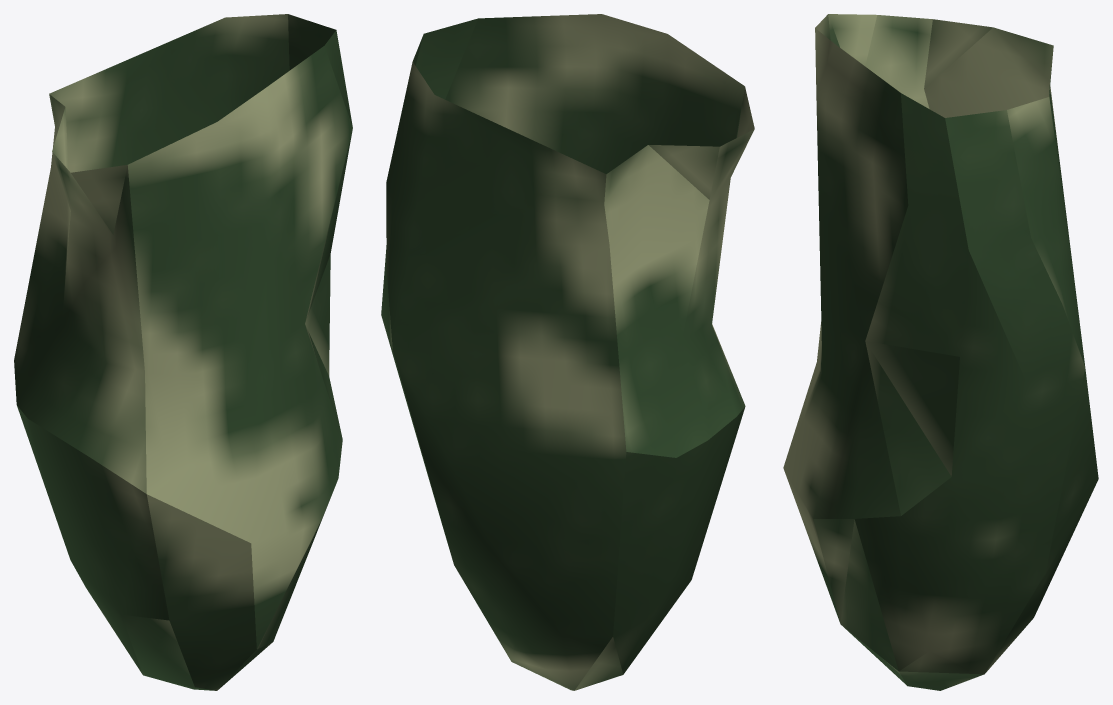
The model's file is link_leg_0_R_1_composite.obj.
The picture shows the model from 3 angles, left to right: view 1: azimuth 30°, elevation 25°; view 2: azimuth 150°, elevation 25°; view 3: azimuth 270°, elevation 25°; orthographic projection. The views are drawn at different scales.
Size of the model in its own units: 4.37 by 8.35 by 3.63.
Materials: 1 (1 with a texture image).
